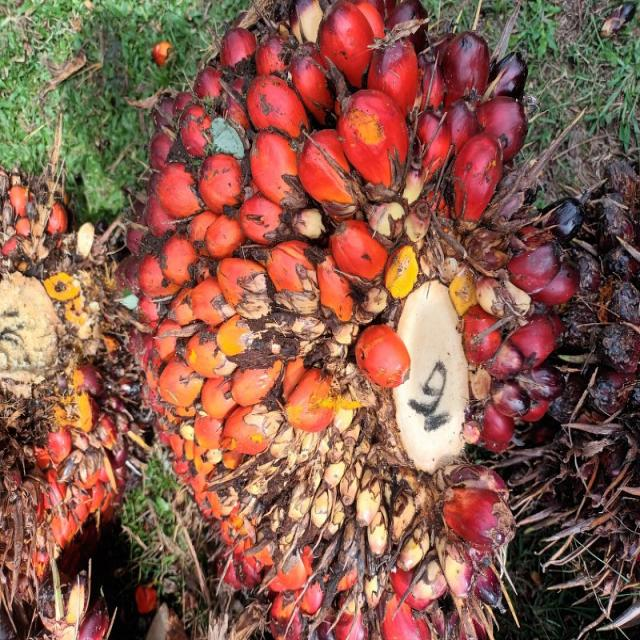fraksi 3: (0, 170, 478, 640)
